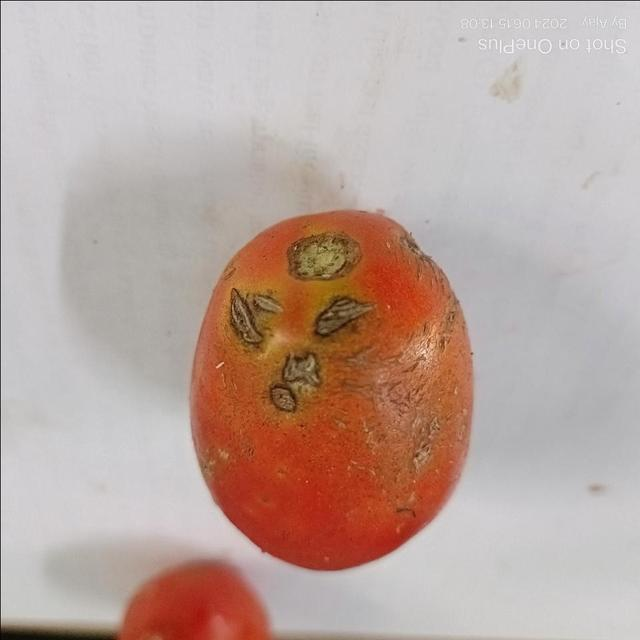Bacterial Spot Fruit: (37, 30, 228, 255)
